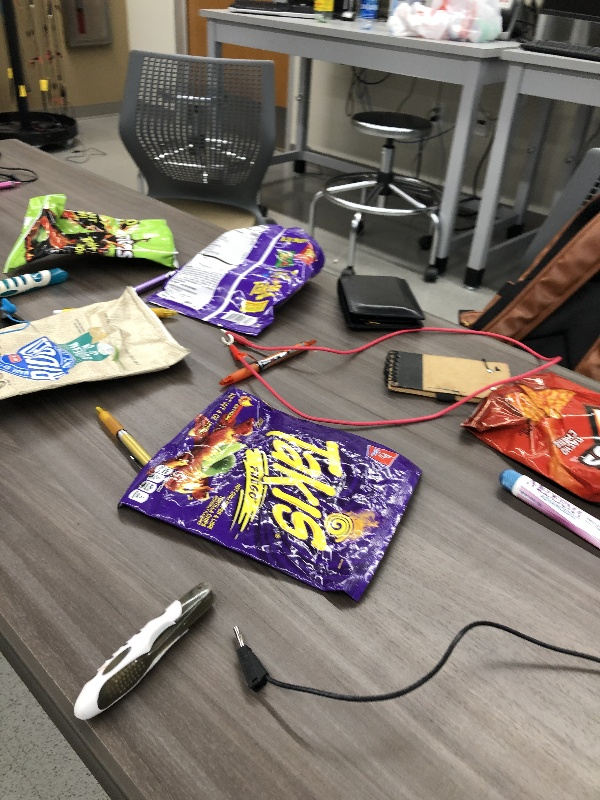bag: (117, 386, 429, 616), (1, 283, 189, 412), (143, 225, 323, 343), (460, 368, 600, 505), (3, 192, 191, 272)
